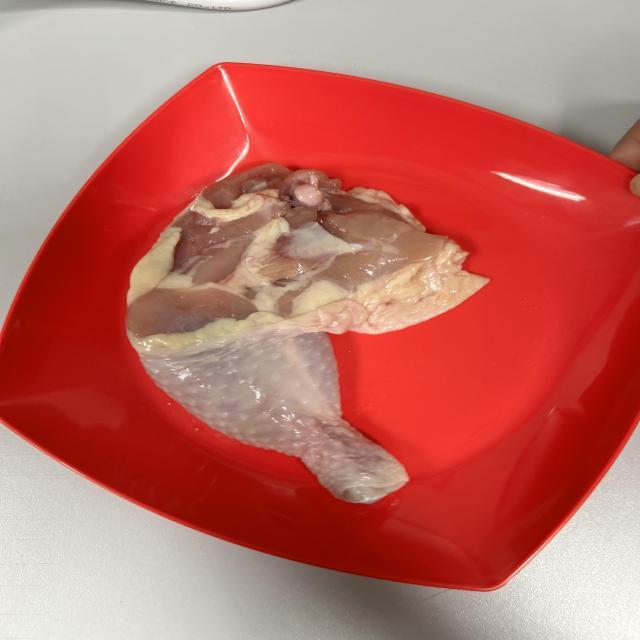quater: (135, 159, 472, 505)
